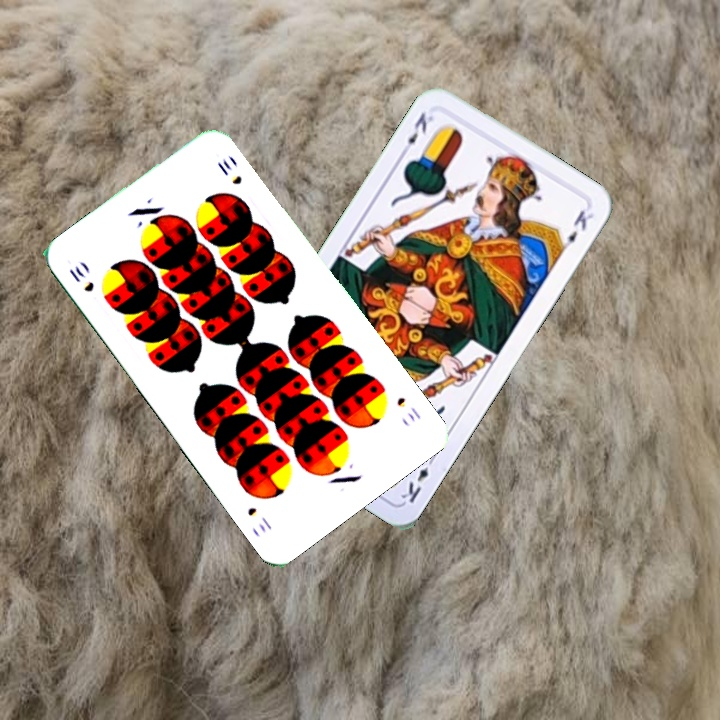EK: (397, 451, 439, 506), (397, 108, 436, 158)
S10: (64, 261, 97, 295), (392, 393, 424, 425)
